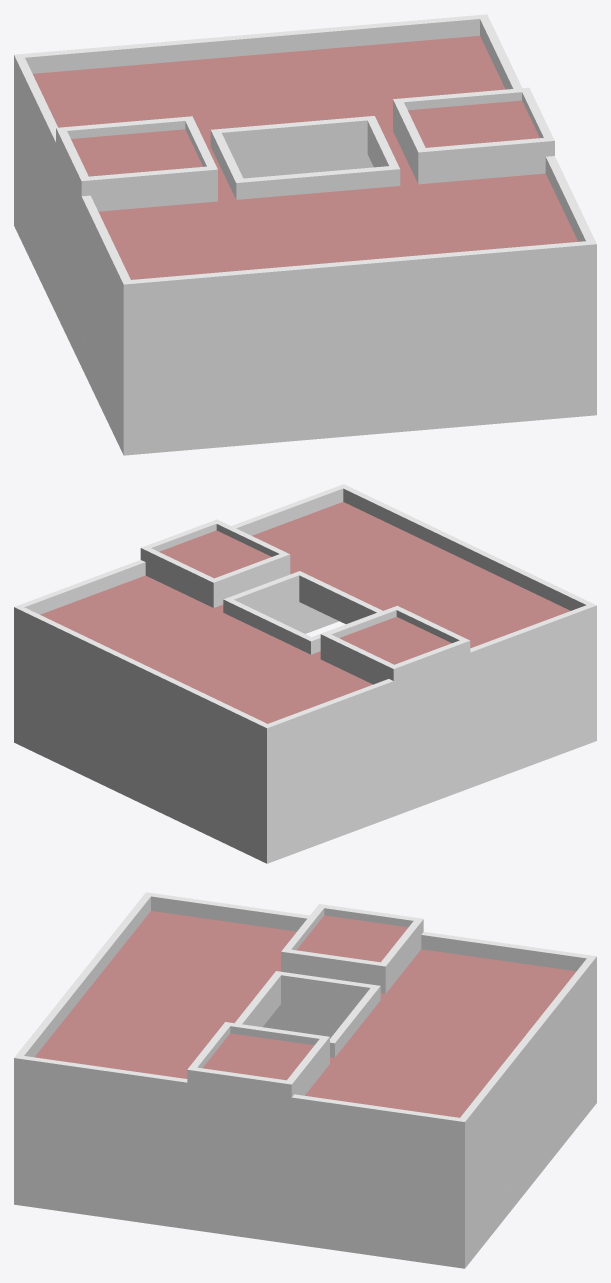
The model's file is LOD_Block_2_78.glb.
3 views of the same model, one above another, from view 1: azimuth 30°, elevation 25°; view 2: azimuth 150°, elevation 25°; view 3: azimuth 270°, elevation 25° (orthographic). The views are drawn at different scales.
Parts seen in each view (by area): view 1: mesh_CityEngineMaterial_1149; view 2: mesh_CityEngineMaterial_1149; view 3: mesh_CityEngineMaterial_1149.
Part boxes in pixels (x1,y1,x2,y2): mesh_CityEngineMaterial_1149: (14, 14, 596, 455); mesh_CityEngineMaterial_1149: (14, 484, 596, 863); mesh_CityEngineMaterial_1149: (14, 892, 596, 1268).
Bounding box in the file's own units: 34.22 × 11.07 × 36.66.
